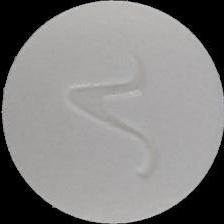0603-3899: (0, 0, 224, 224)
